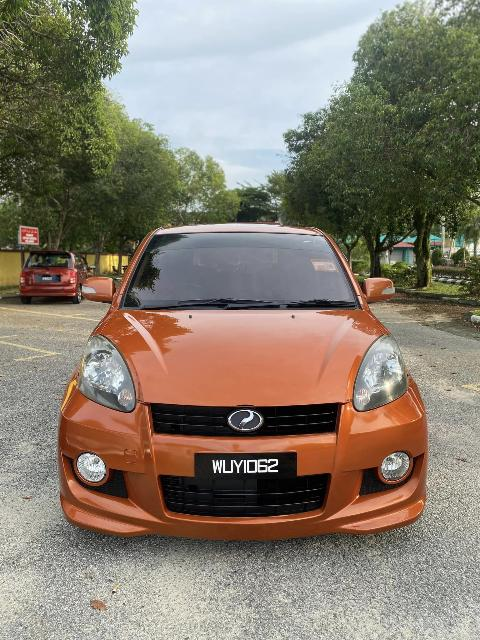License_Plate: (194, 452, 296, 483)
car: (55, 214, 436, 537)
